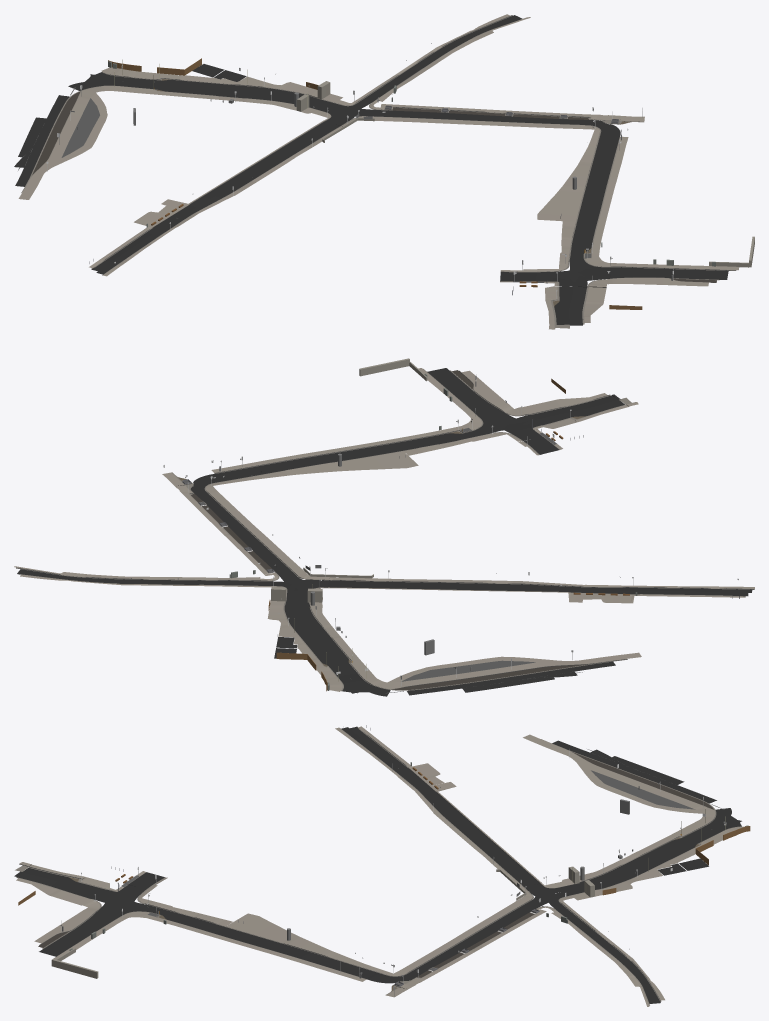
Rendered from ingolstadt_20_lod3_roads.obj.
3 views of the same model, one above another, from view 1: azimuth 30°, elevation 25°; view 2: azimuth 150°, elevation 25°; view 3: azimuth 270°, elevation 25° (orthographic). The views are drawn at different scales.
Visible parts, largest first — view 1: road_surfaces; view 2: road_surfaces; view 3: road_surfaces.
Part boxes in pixels (x1,y1,x2,y2): road_surfaces: (14, 14, 739, 329); road_surfaces: (14, 368, 754, 696); road_surfaces: (14, 726, 744, 1006).
Size of the model in its own units: 191 by 6.38 by 215.
